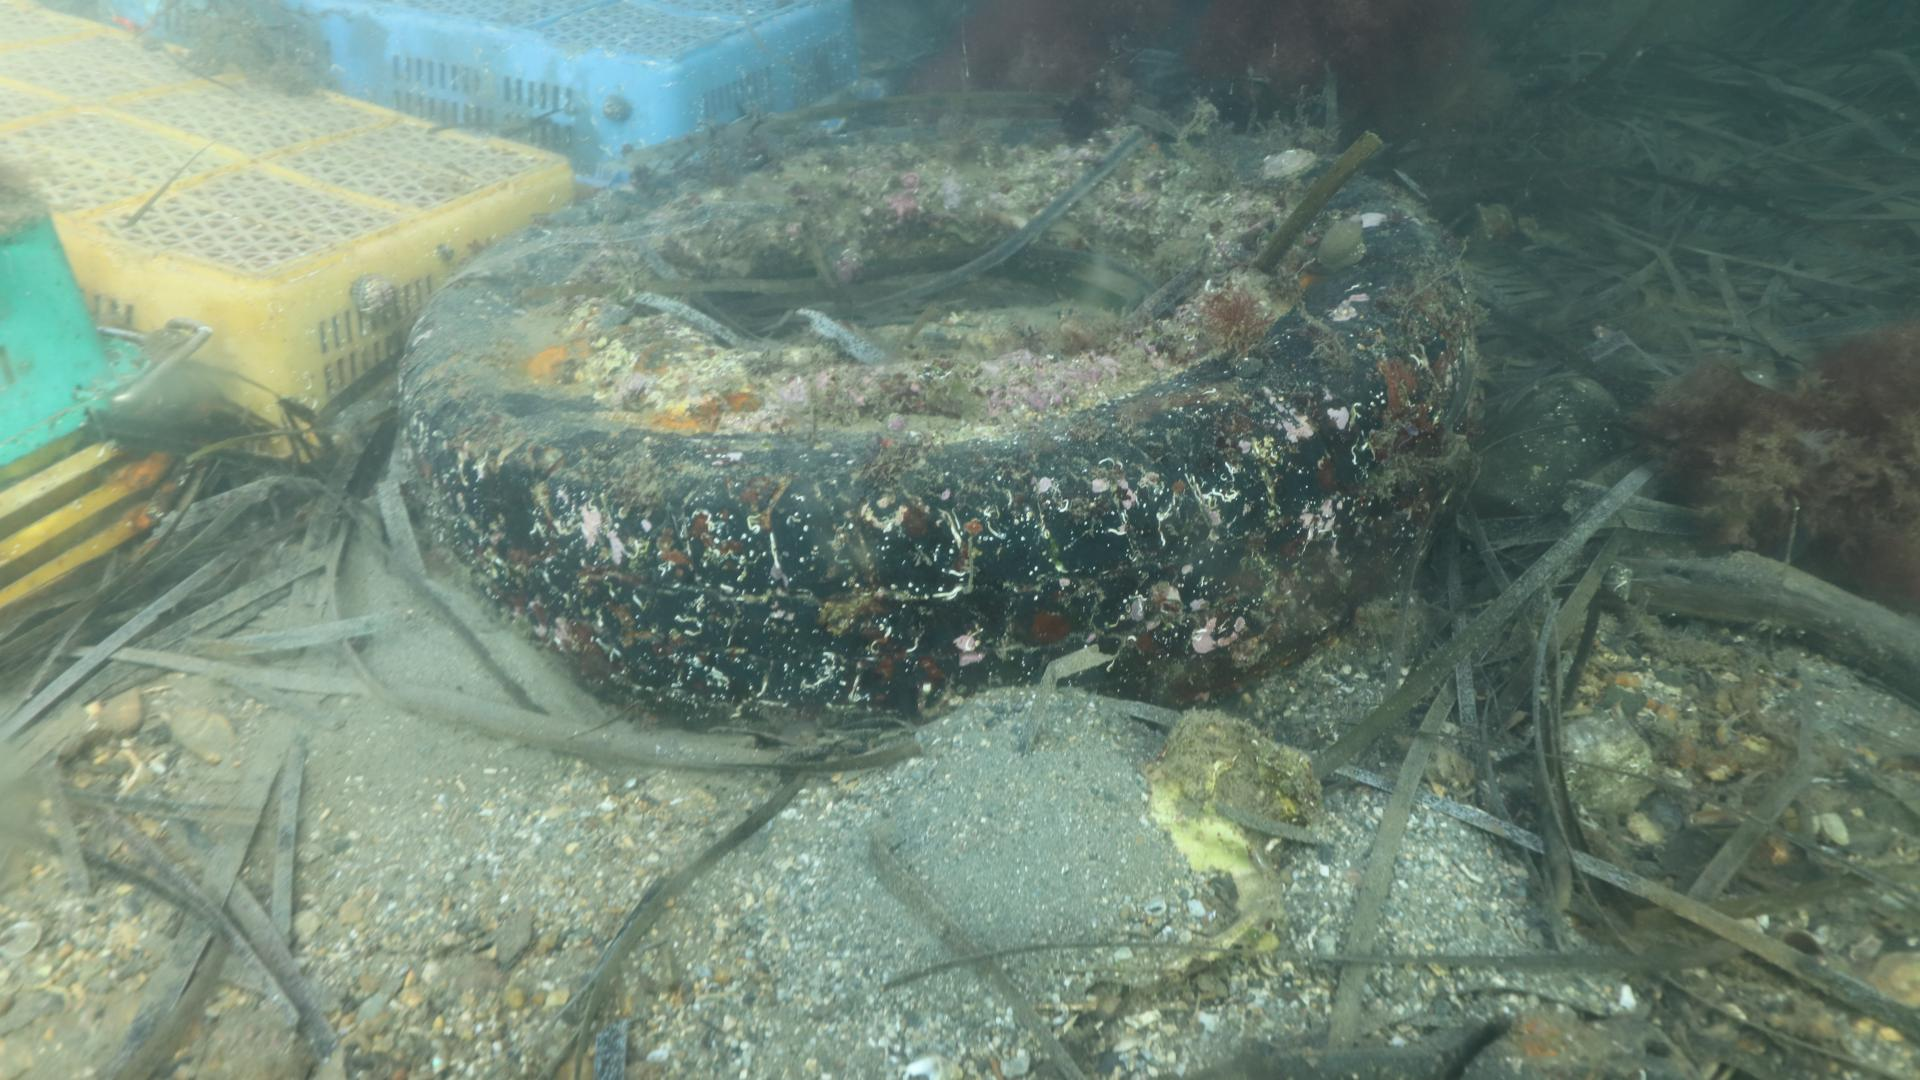tire: (398, 138, 1480, 731)
